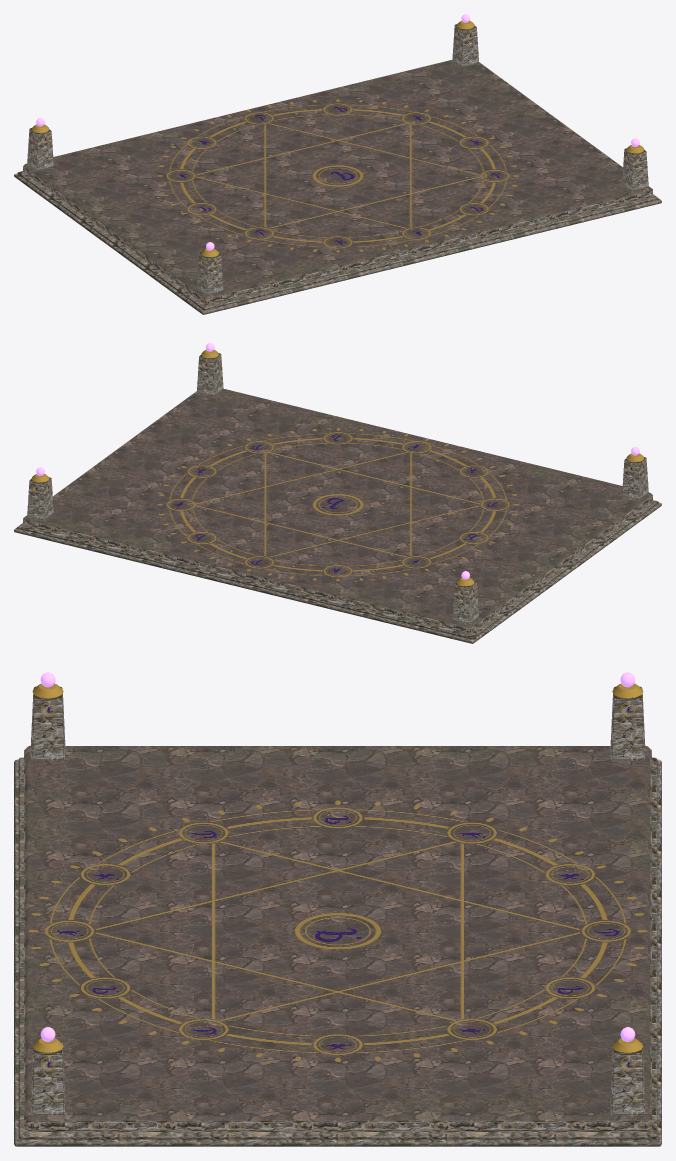
The model's file is altar.glb.
The picture shows the model from 3 angles, top to bottom: view 1: azimuth 30°, elevation 25°; view 2: azimuth 150°, elevation 25°; view 3: azimuth 270°, elevation 25°; orthographic projection. The views are drawn at different scales.
Visible parts, largest first — view 1: AltarMesh; view 2: AltarMesh; view 3: AltarMesh.
Boxes of the visible parts, left/top/right/bottom form: AltarMesh: left=14, top=14, right=661, bottom=314; AltarMesh: left=14, top=343, right=661, bottom=643; AltarMesh: left=14, top=672, right=661, bottom=1146.
Bounding box in the file's own units: 13.3 × 1.71 × 9.5.
Materials: 6 (4 with a texture image).
